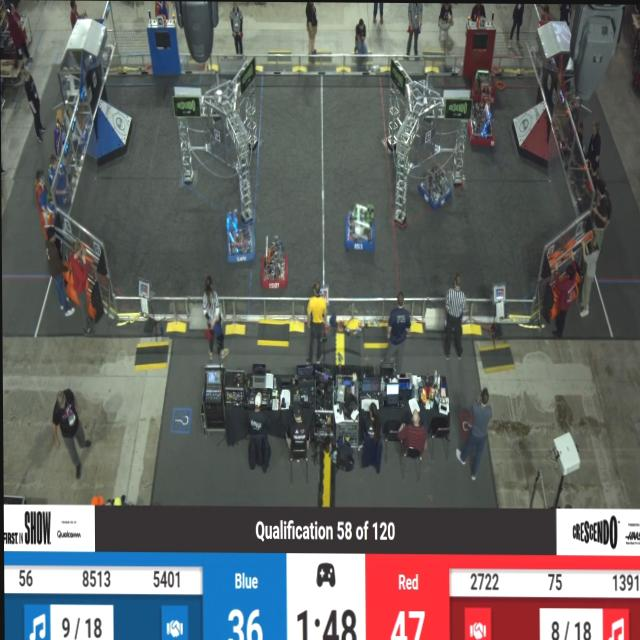Robot: (417, 159, 455, 216), (226, 198, 257, 264), (260, 231, 290, 290), (344, 201, 376, 255), (466, 97, 493, 146), (469, 63, 498, 104)
